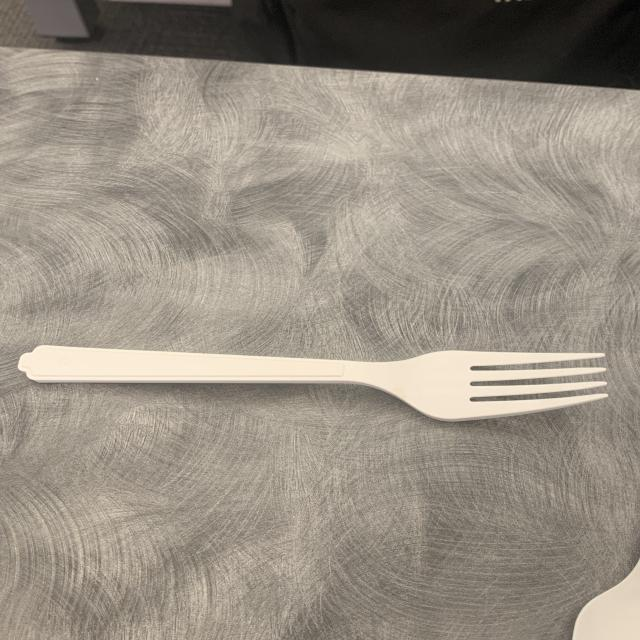fork: (19, 310, 620, 466)
